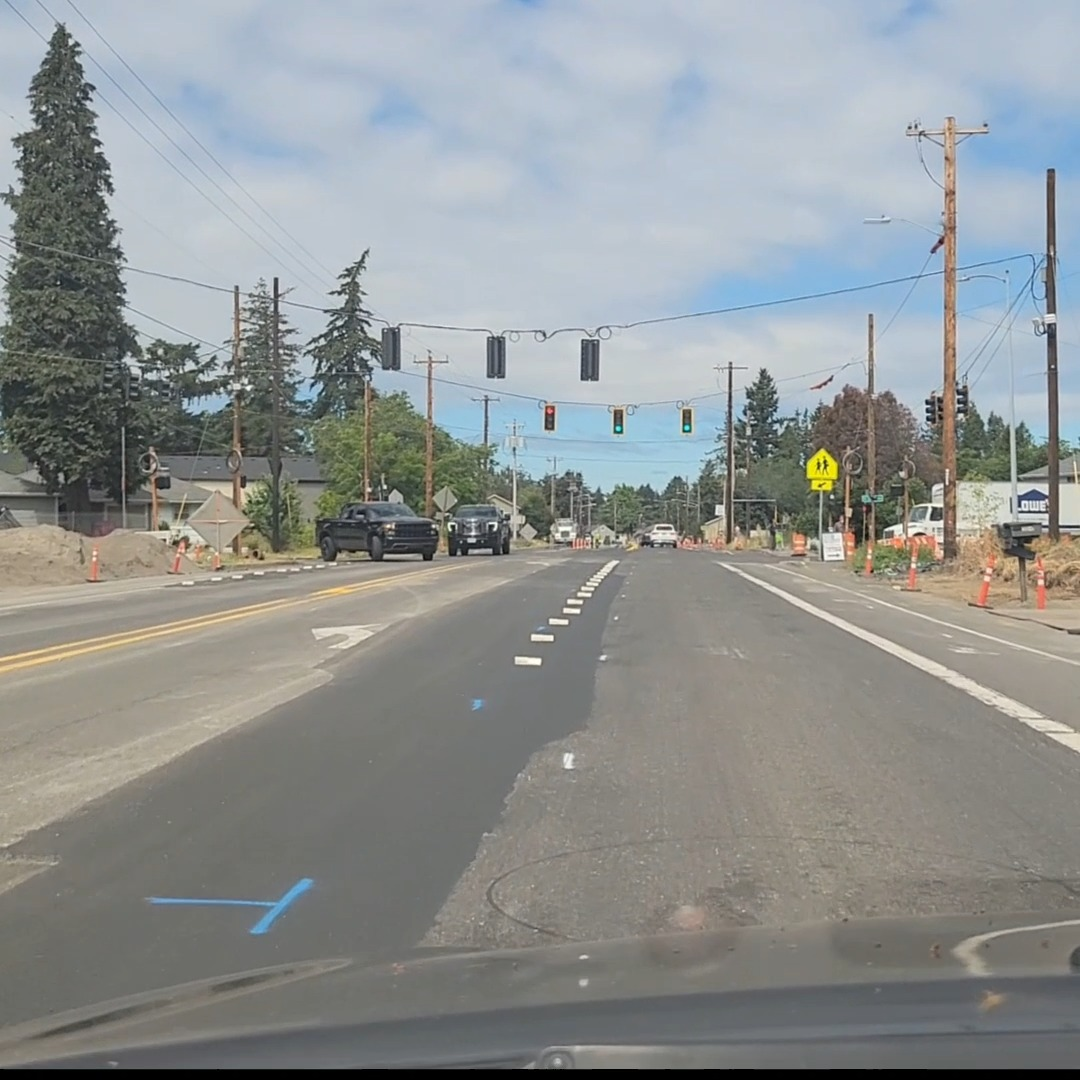car: (315, 502, 437, 562), (447, 503, 514, 556), (641, 523, 679, 548)
crosswalk-sign: (806, 447, 838, 482)
delineator: (899, 540, 922, 591), (974, 560, 995, 607), (1034, 558, 1048, 609), (168, 539, 186, 574), (85, 546, 102, 582), (863, 537, 874, 576), (211, 547, 223, 571), (193, 543, 204, 560), (892, 533, 903, 549)
